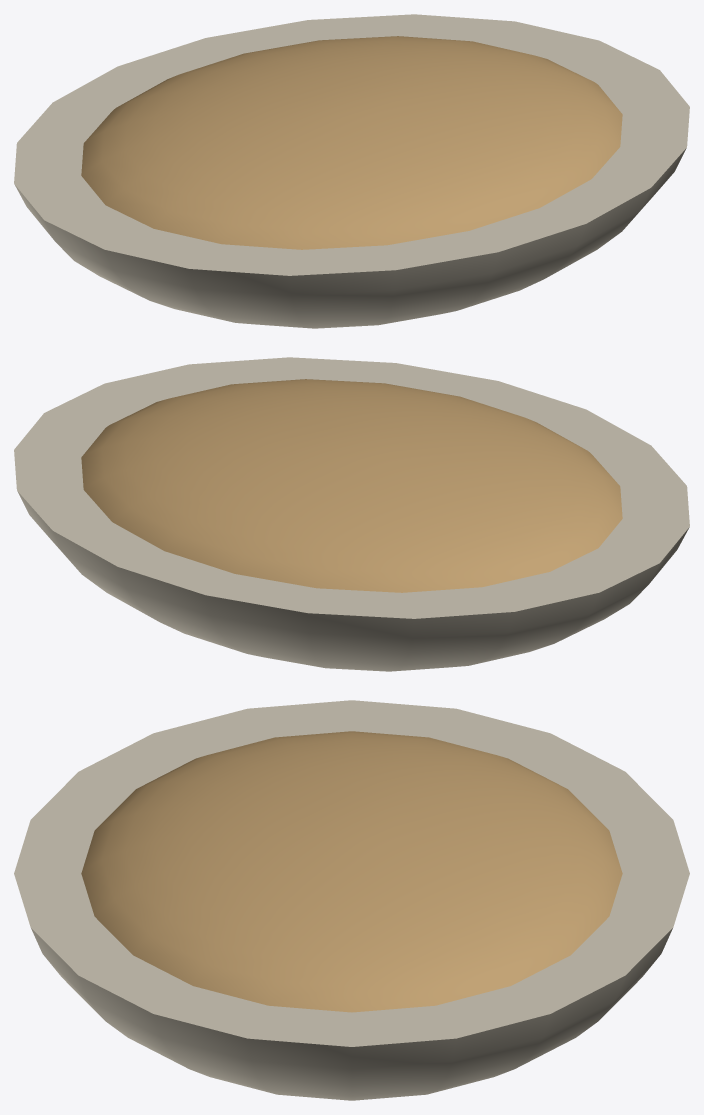
Rendered from huevo.fbx.
The picture shows the model from 3 angles, top to bottom: view 1: azimuth 30°, elevation 25°; view 2: azimuth 150°, elevation 25°; view 3: azimuth 270°, elevation 25°; orthographic projection. The views are drawn at different scales.
Parts seen in each view (by area): view 1: huevo; view 2: huevo; view 3: huevo.
Part boxes in pixels (x1,y1,x2,y2): huevo: (14,14,689,328); huevo: (14,357,689,671); huevo: (14,700,689,1100).
Bounding box in the file's own units: 3.98 × 1.12 × 3.28.
